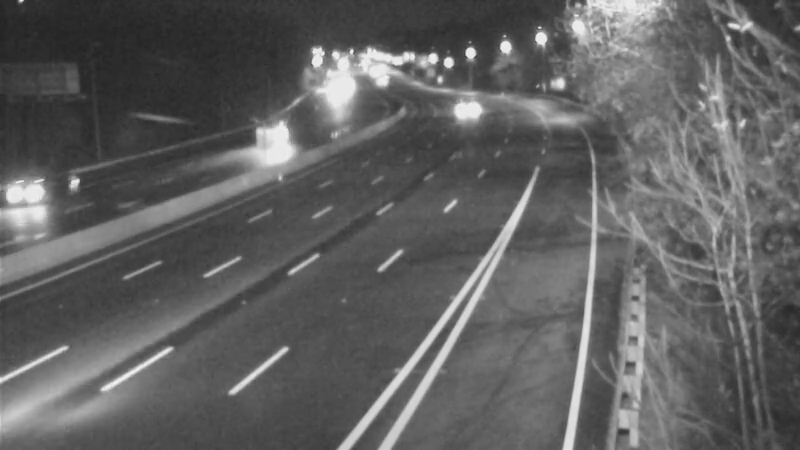vehicle: (1, 153, 81, 233), (436, 79, 486, 129), (252, 117, 302, 167)
